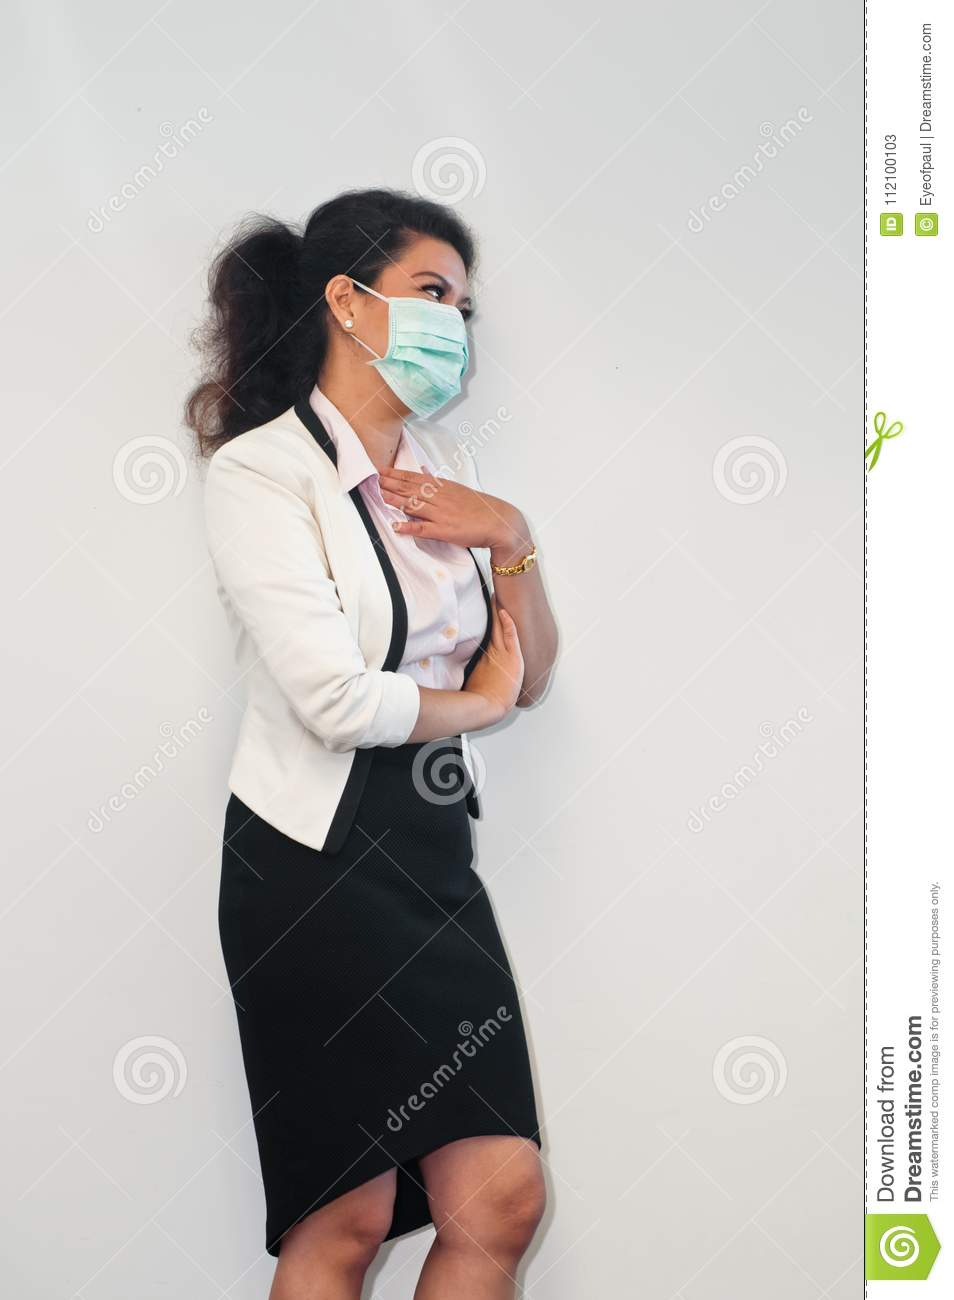mask: (377, 302, 473, 426)
